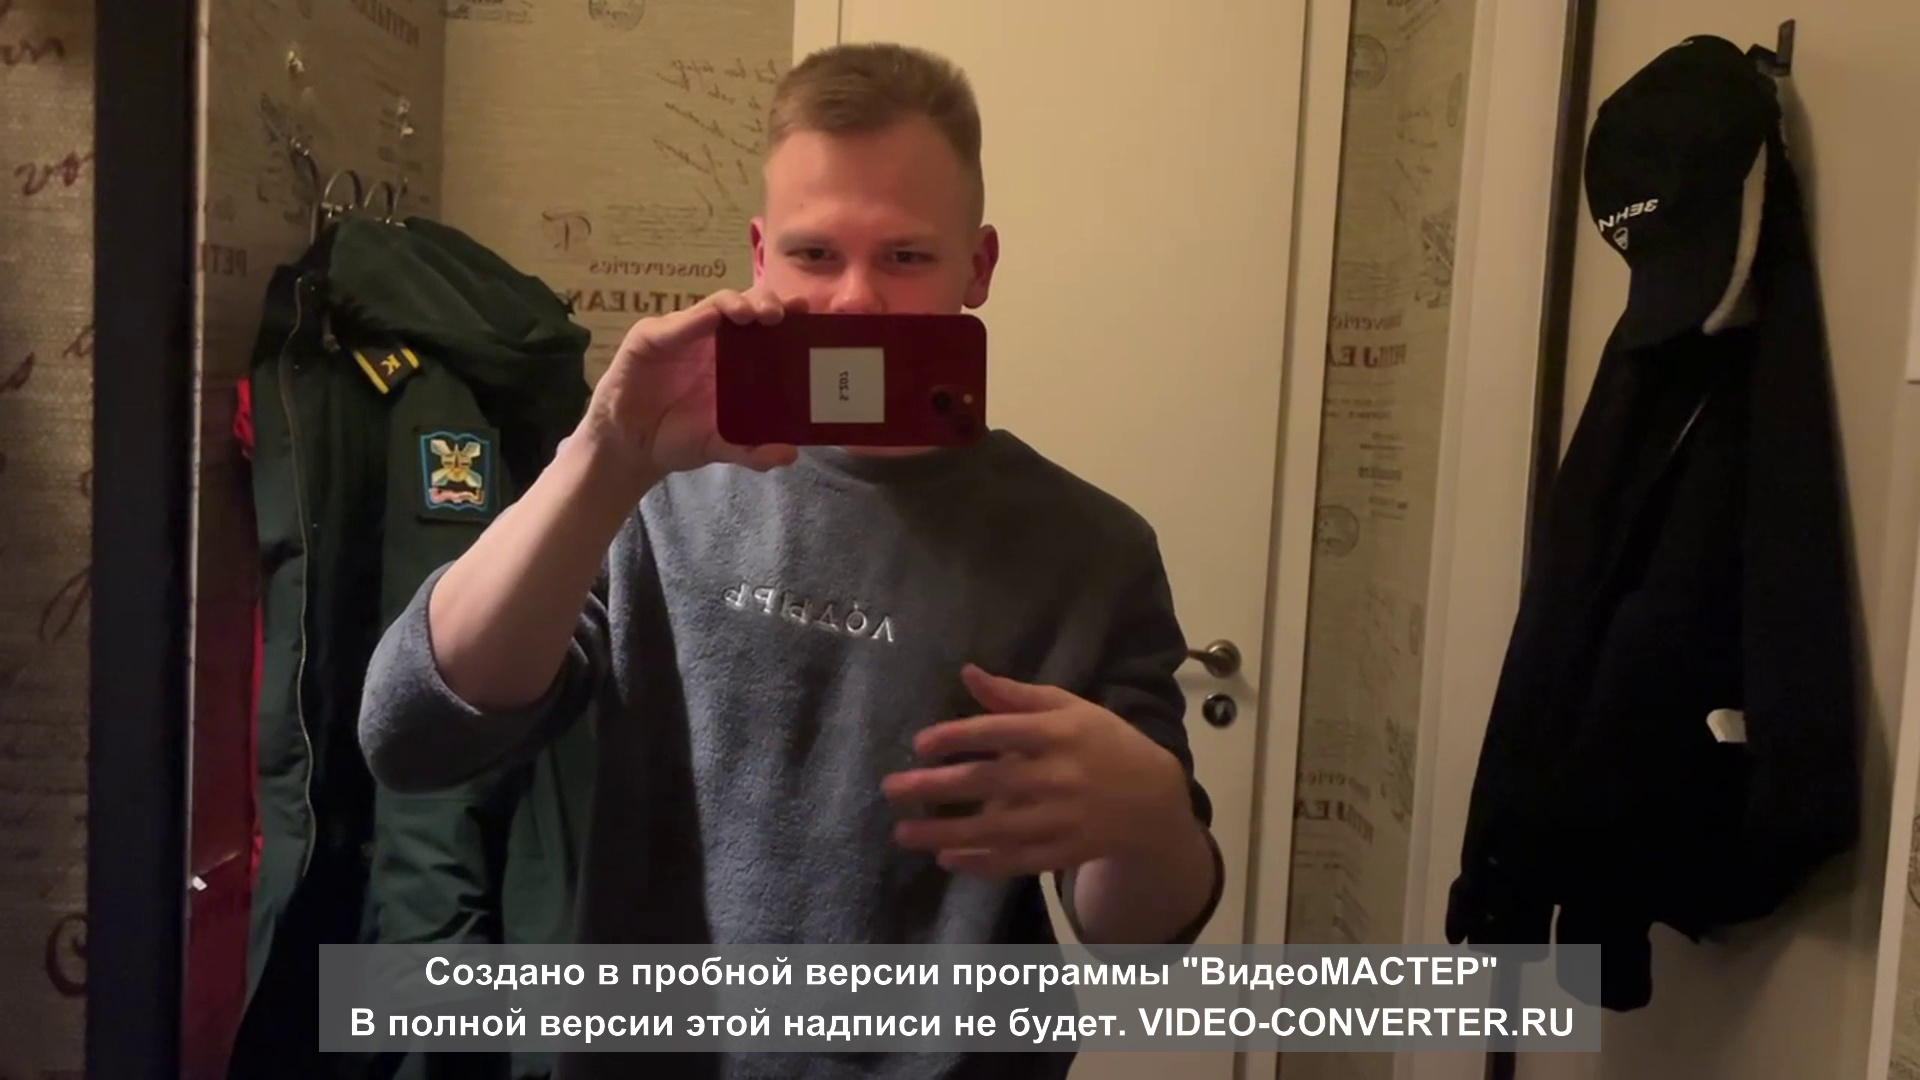Кисть: (886, 665, 1176, 874)
